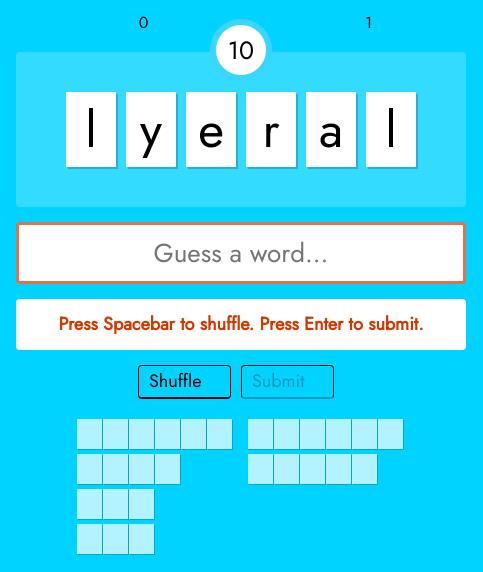
Test: GameContainer component › should display a notification if the user submits a guess that does not meet the minimum required length
Type "r" into the field labelled "Guess a word...".
click(241, 253); type("r")  # box [16, 222, 466, 284]
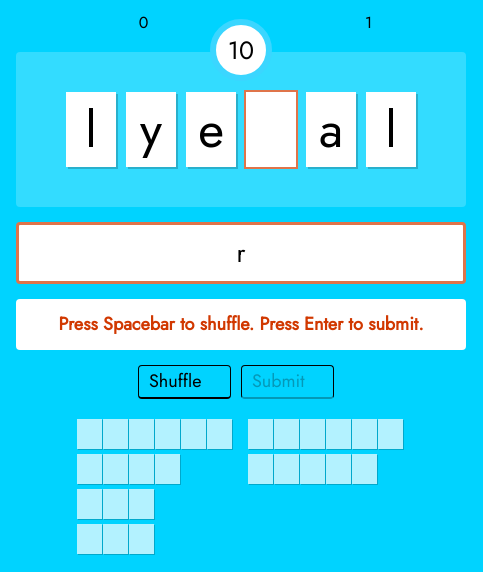
Type "e" into the field named "Guess a word...".
click(241, 253); type("e")  # box [16, 222, 466, 284]
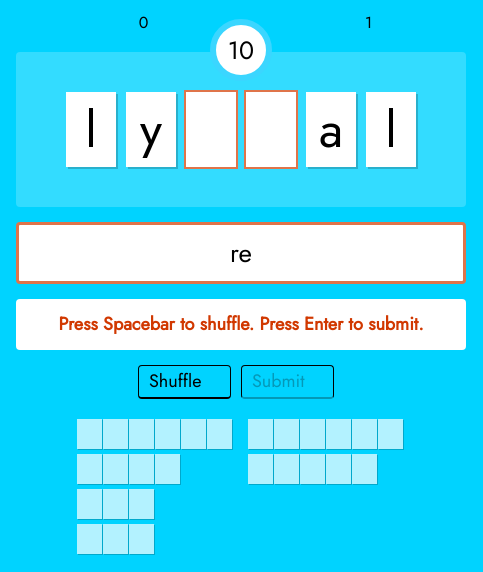
Press Enter
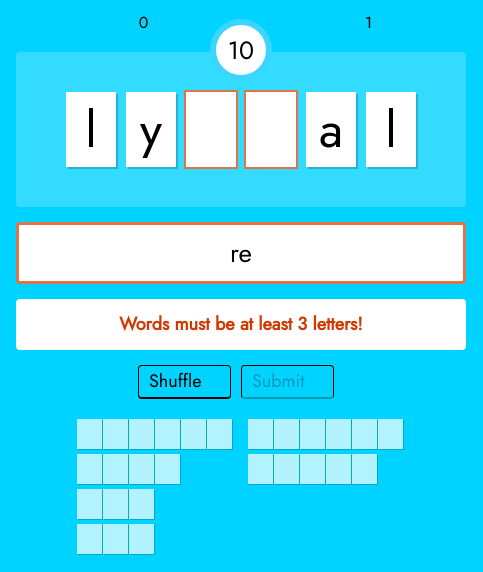
Check: the field named "Guess a word..." holds "re", box [16, 222, 466, 284]
Check: the text "Words must be at least 3 letters!" is shown, box [16, 299, 466, 350]
